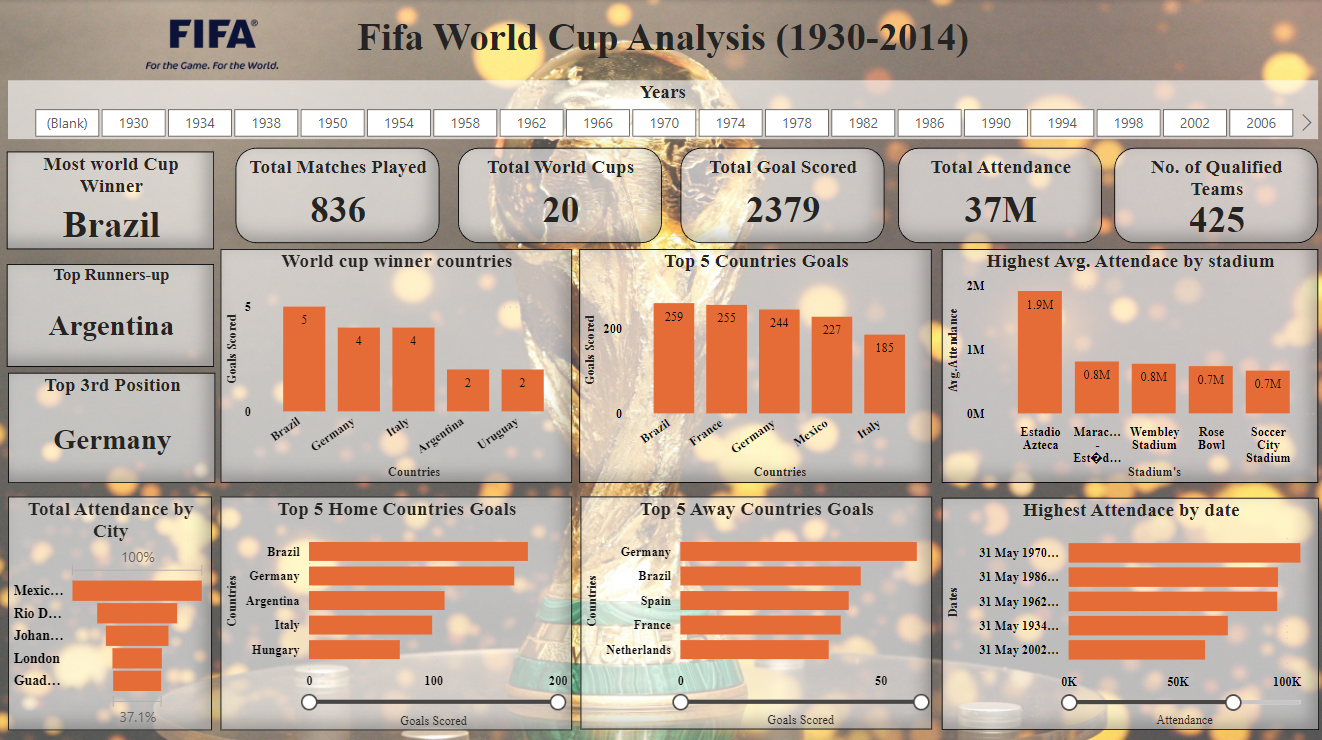

Layout of this report page (visuals, bound fields, positions):
{"tool":"powerbi","page":{"name":"Page 1","canvas":[1280,720],"ordinal":0},"visuals":[{"type":"barChart","title":" Highest Attendace by date","fields":{"Category":["Matches.Datetime"],"Y":["Sum(Matches.Attendance)"]},"box":[910,481.2,364.2,224.3],"z":0},{"type":"barChart","title":" Top 5 Away Countries Goals","fields":{"Y":["Sum(Matches.Away Team Goals)"],"Category":["Matches.Away Team Name"]},"box":[562.6,480.3,338.9,225],"z":1000},{"type":"barChart","title":" Top 5 Home Countries Goals","fields":{"Y":["Sum(Matches.Home Team Goals)"],"Category":["Matches.Home Team Name"]},"box":[214.7,480,338.9,225.5],"z":2000},{"type":"card","title":"Most world Cup Winner","fields":{"Values":["Min(Cups.Winner)"]},"box":[8.4,147.1,200.2,94.1],"z":3000},{"type":"card","title":"Top  Runners-up","fields":{"Values":["Min(Cups.Runners-Up)"]},"box":[8.4,255.7,200.2,98.9],"z":4000},{"type":"card","title":"Top 3rd Position","fields":{"Values":["Min(Cups.Third)"]},"box":[9.6,360.6,200.2,106.1],"z":5000},{"type":"columnChart","title":" Highest Avg. Attendace  by stadium","fields":{"Y":["Sum(Matches.Attendance)"],"Category":["Matches.Stadium"]},"box":[910.6,241.2,363,225.5],"z":6000},{"type":"columnChart","title":" Top 5  Countries Goals","fields":{"Category":["Cups.Country"],"Y":["Sum(Cups.GoalsScored)"]},"box":[560.8,241.2,340.1,225.5],"z":7000},{"type":"columnChart","title":"World cup winner countries","fields":{"Y":["CountNonNull(Cups.Winner)"],"Category":["Cups.Winner"]},"box":[214.7,241.2,338.9,225.5],"z":8000},{"type":"funnel","title":"Total Attendance by City","fields":{"Category":["Matches.City"],"Y":["Sum(Matches.Attendance)"]},"box":[9.6,480,196.6,225.5],"z":9000},{"type":"card","title":"Total Matches Played","fields":{"Values":["Sum(Cups.MatchesPlayed)"]},"box":[229.1,143.5,196.6,91.7],"z":10000},{"type":"card","title":"Total Goal Scored","fields":{"Values":["Sum(Cups.GoalsScored)"]},"box":[658.5,143.5,196.6,91.7],"z":11000},{"type":"card","title":"Total Attendance","fields":{"Values":["Sum(Matches.Attendance)"]},"box":[868.3,143.5,196.6,91.7],"z":12000},{"type":"card","title":"Total  World Cups","fields":{"Values":["Count(Matches.Year)"]},"box":[443.8,143.5,196.6,91.7],"z":13000},{"type":"card","title":"No. of Qualified Teams","fields":{"Values":["Sum(Cups.QualifiedTeams)"]},"box":[1077,143.5,196.6,91.7],"z":14000},{"type":"slicer","title":"Years","fields":{"Values":["Cups.Year"]},"box":[9.6,78.4,1263.9,56.7],"z":15000},{"type":"textbox","title":"Fifa World Cup Analysis (1930-2014)","box":[9.6,14.5,1263.9,43.4],"z":16000},{"type":"image","box":[133.9,8.4,144.7,69.9],"z":17000}]}

Visuals, with their boxes in screenshot pixels (x1, y1, x2, y2), scaled from the page's 1280x720 canvas onto the 1322x740 screenshot:
" Highest Attendace by date" barChart: locate(940, 495, 1316, 725)
" Top 5 Away Countries Goals" barChart: locate(581, 494, 931, 725)
" Top 5 Home Countries Goals" barChart: locate(222, 493, 572, 725)
"Most world Cup Winner" card: locate(9, 151, 215, 248)
"Top  Runners-up" card: locate(9, 263, 215, 364)
"Top 3rd Position" card: locate(10, 371, 217, 480)
" Highest Avg. Attendace  by stadium" columnChart: locate(940, 248, 1315, 480)
" Top 5  Countries Goals" columnChart: locate(579, 248, 930, 480)
"World cup winner countries" columnChart: locate(222, 248, 572, 480)
"Total Attendance by City" funnel: locate(10, 493, 213, 725)
"Total Matches Played" card: locate(237, 147, 440, 242)
"Total Goal Scored" card: locate(680, 147, 883, 242)
"Total Attendance" card: locate(897, 147, 1100, 242)
"Total  World Cups" card: locate(458, 147, 661, 242)
"No. of Qualified Teams" card: locate(1112, 147, 1315, 242)
"Years" slicer: locate(10, 81, 1315, 139)
"Fifa World Cup Analysis (1930-2014)" textbox: locate(10, 15, 1315, 60)
image: locate(138, 9, 288, 80)
